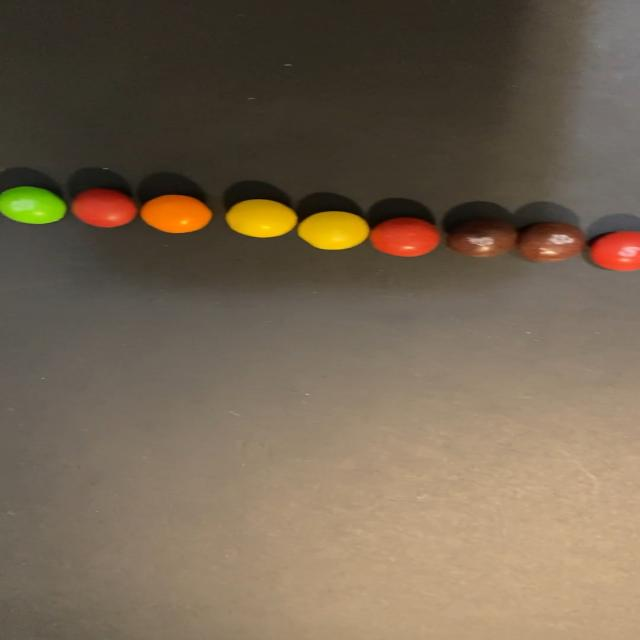smartie: (297, 211, 369, 250), (139, 194, 211, 233), (369, 217, 439, 256), (225, 199, 296, 237), (446, 219, 517, 257), (70, 188, 136, 227), (519, 222, 585, 261), (0, 186, 65, 224), (591, 231, 640, 271)
